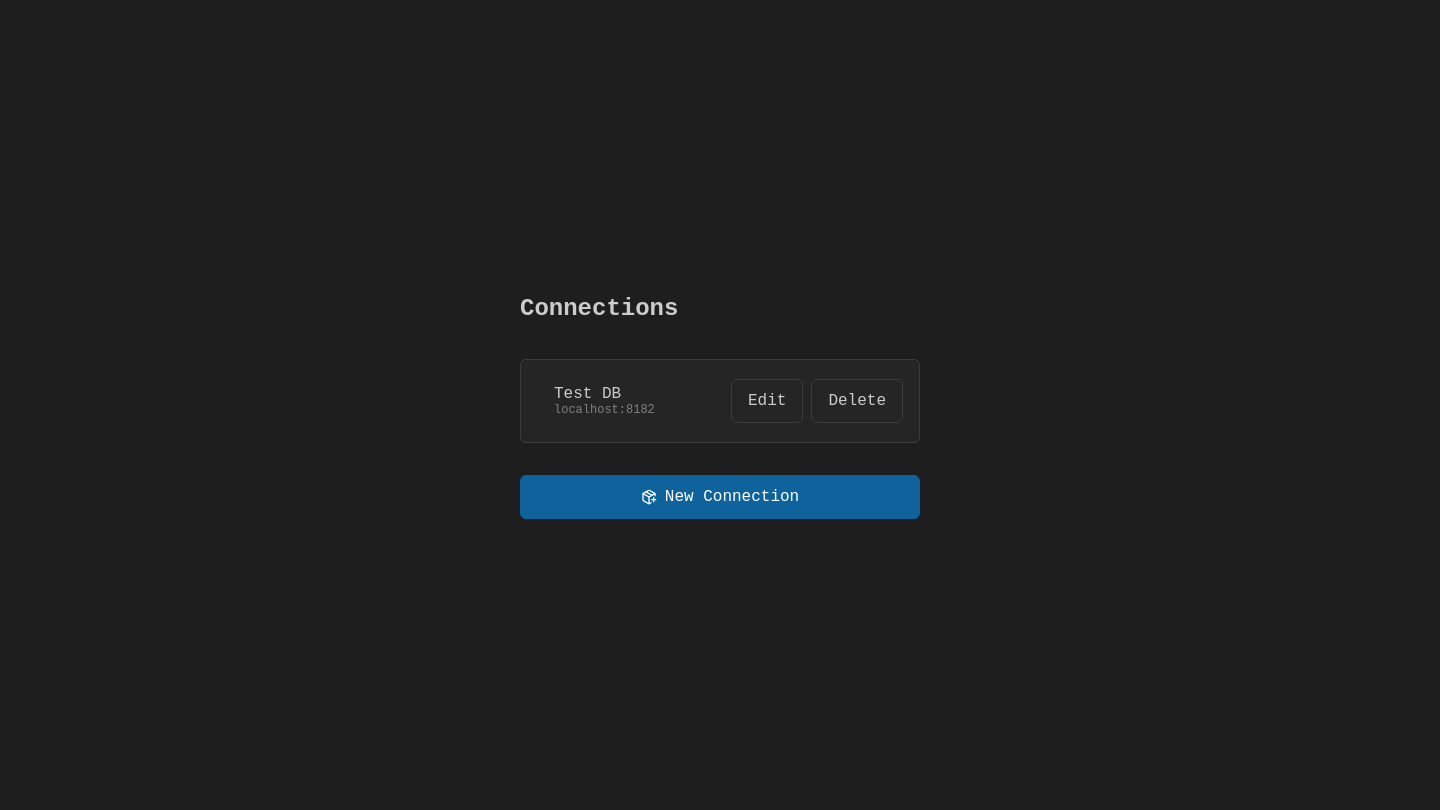
Test case: ConnectionsPanel › opens Standard form when editing a Standard connection
Click the button "Edit" at (767, 401), box [731,379,803,423]
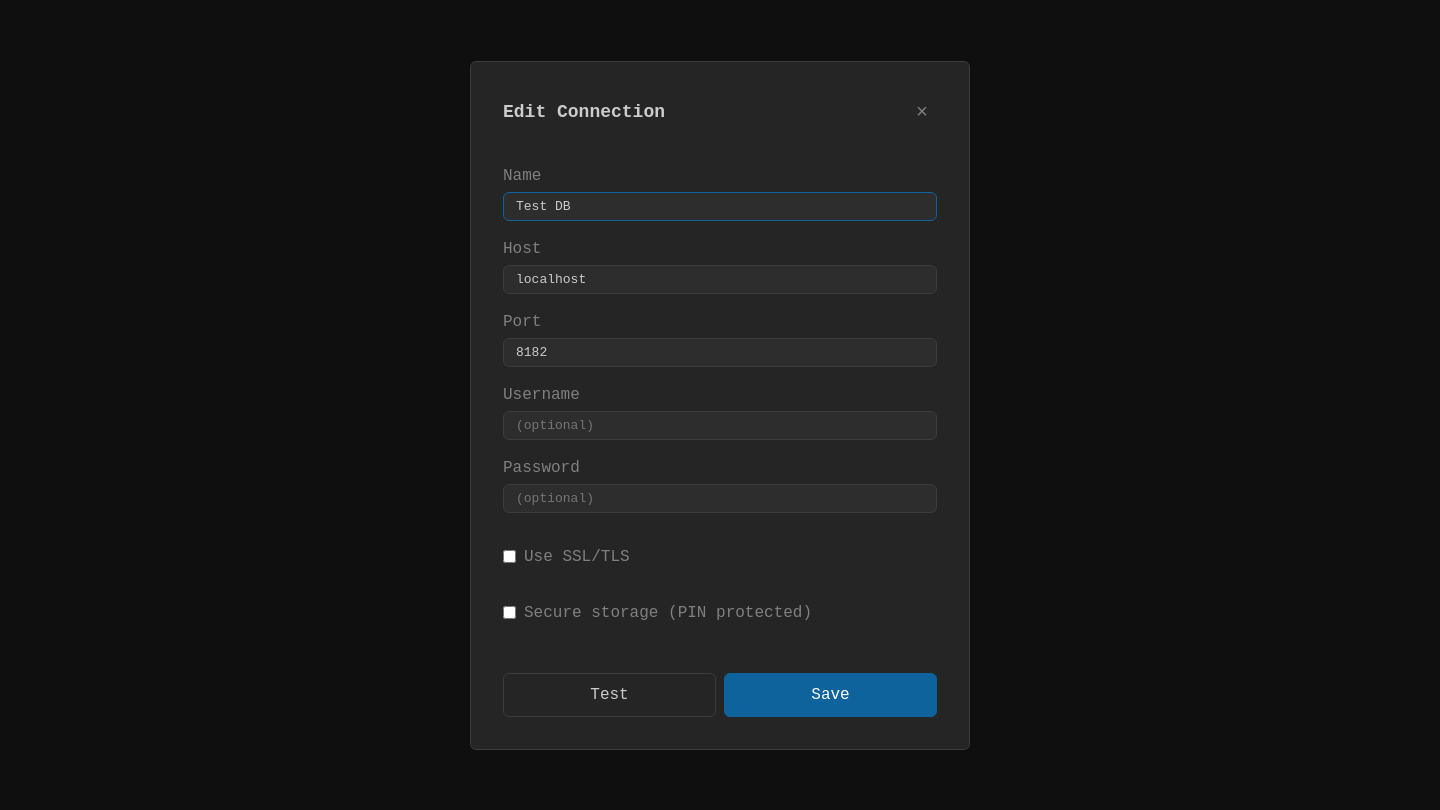
Expected: the heading "Edit Connection" is shown, [503,99,665,126]
Expected: the number field labelled "Port" is shown, [503,338,937,366]
Expected: the field showing "Test DB" is shown, [503,192,937,220]
